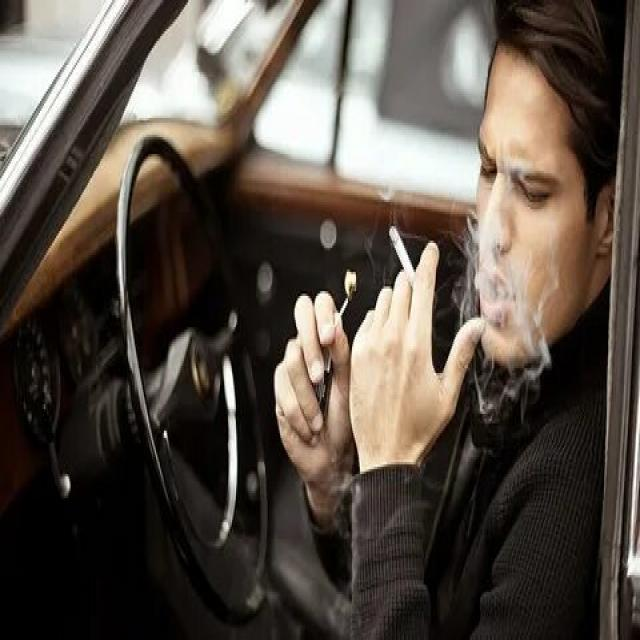cigarette: (388, 224, 421, 296)
